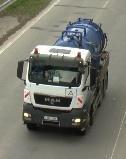truck: (17, 15, 111, 137)
